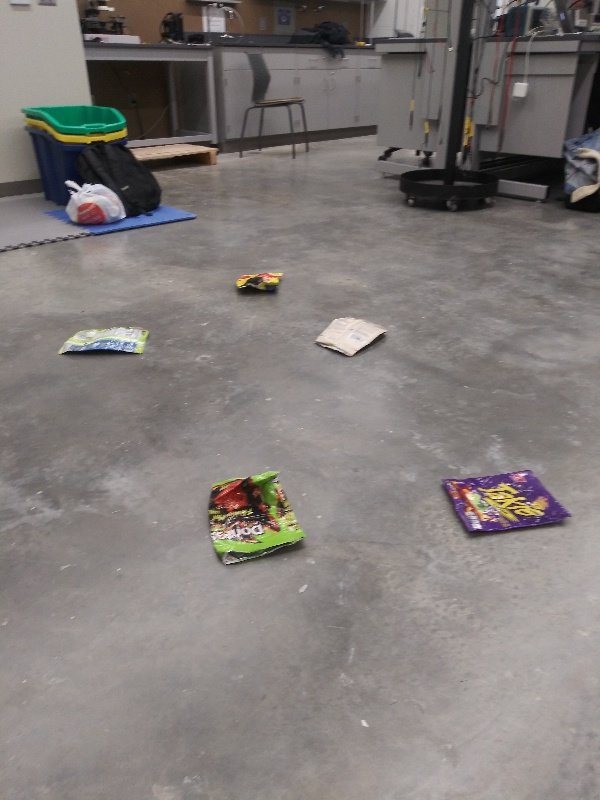bag: (203, 465, 310, 567), (439, 466, 573, 540), (307, 313, 393, 361), (55, 321, 161, 359), (231, 267, 288, 300)
